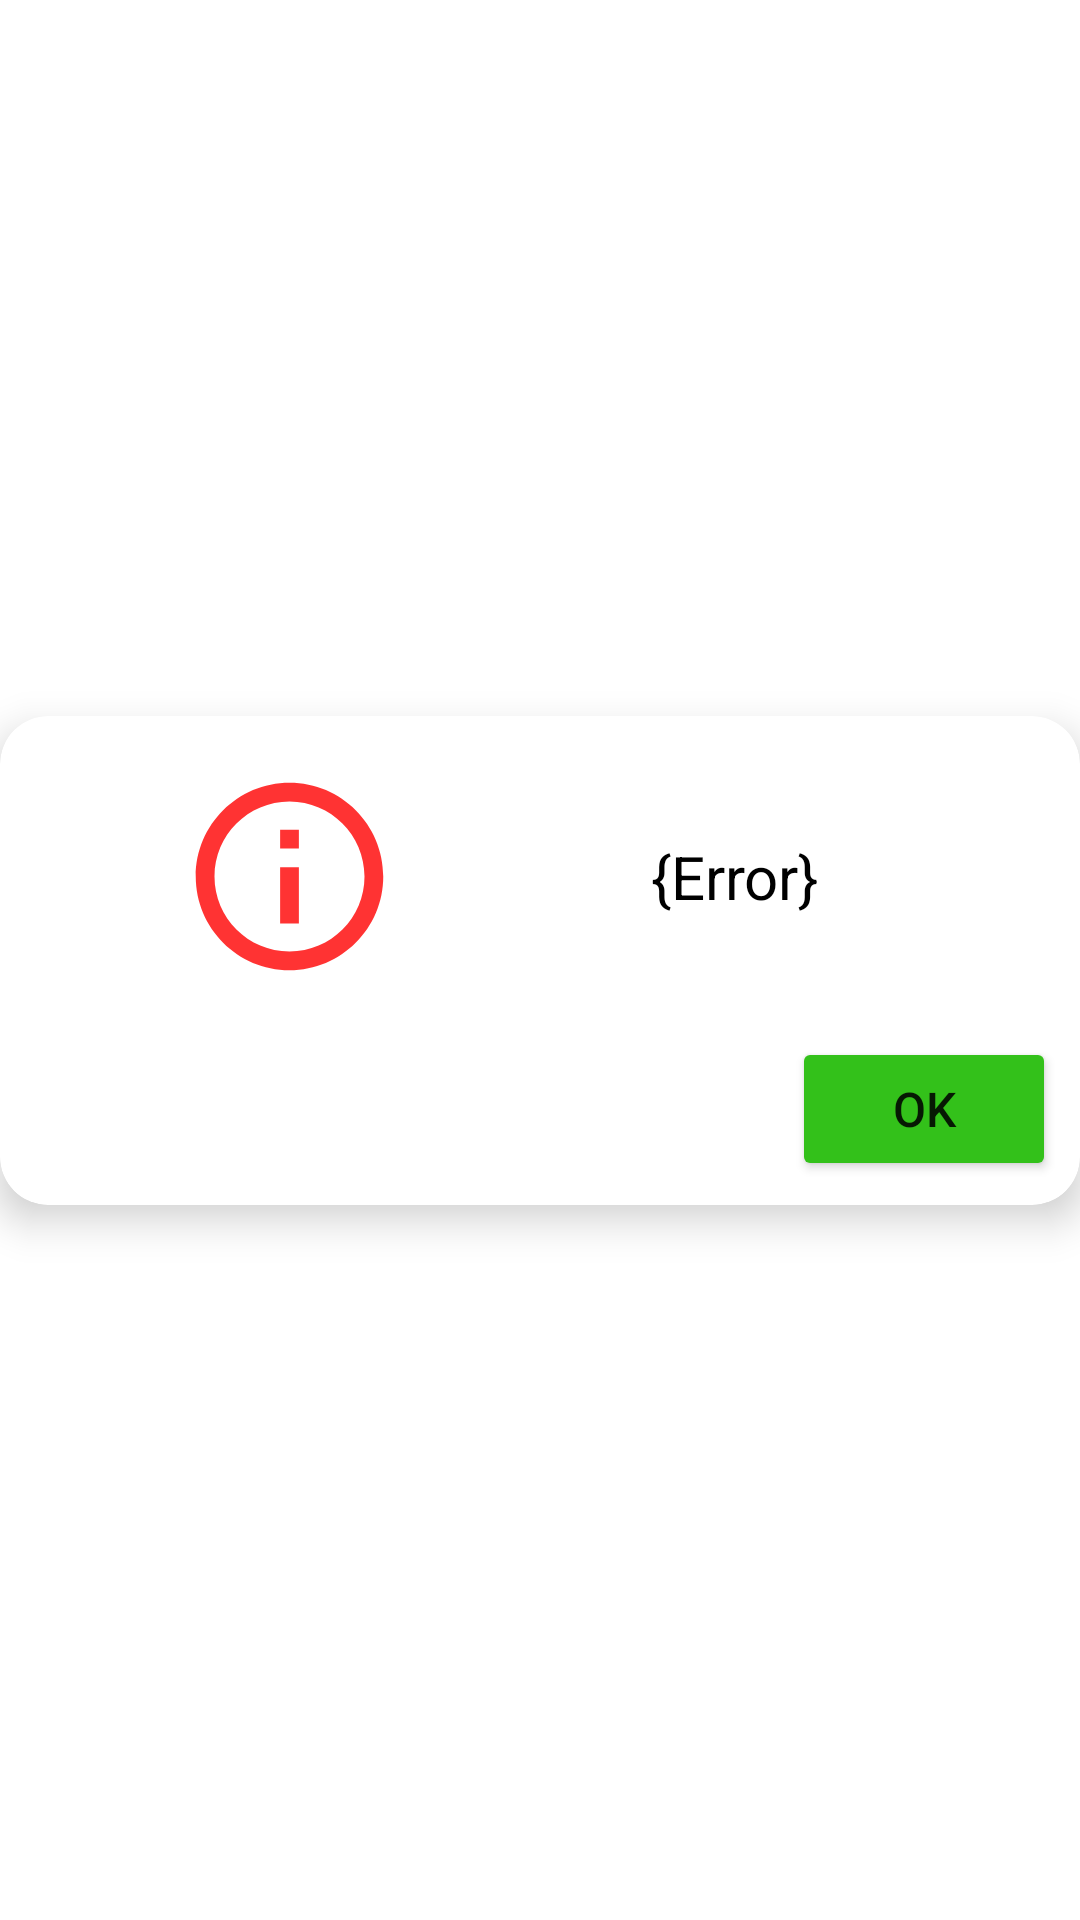

Screen size 1080px x 1920px. Icon name, then its center in pixels as point (x, y):
error: point (289, 876)
